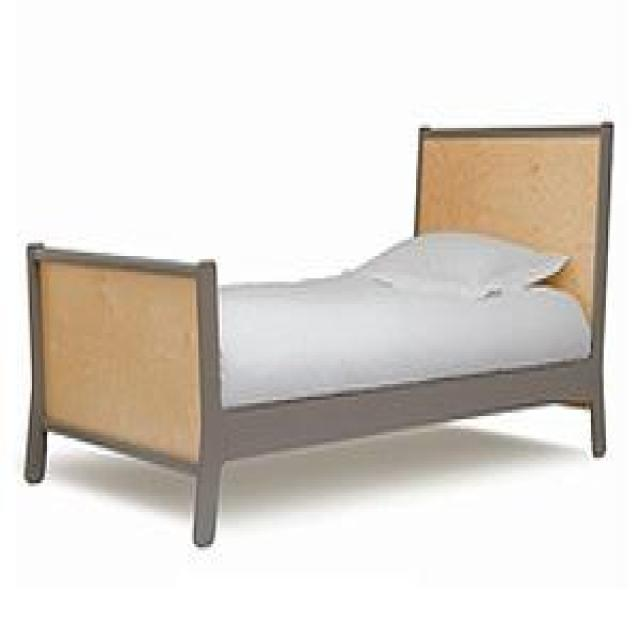bed: (22, 118, 614, 548)
